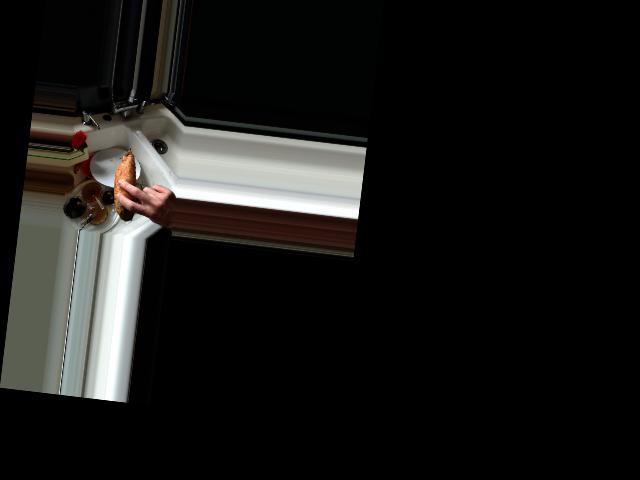sweet_potato: (110, 143, 146, 225)
